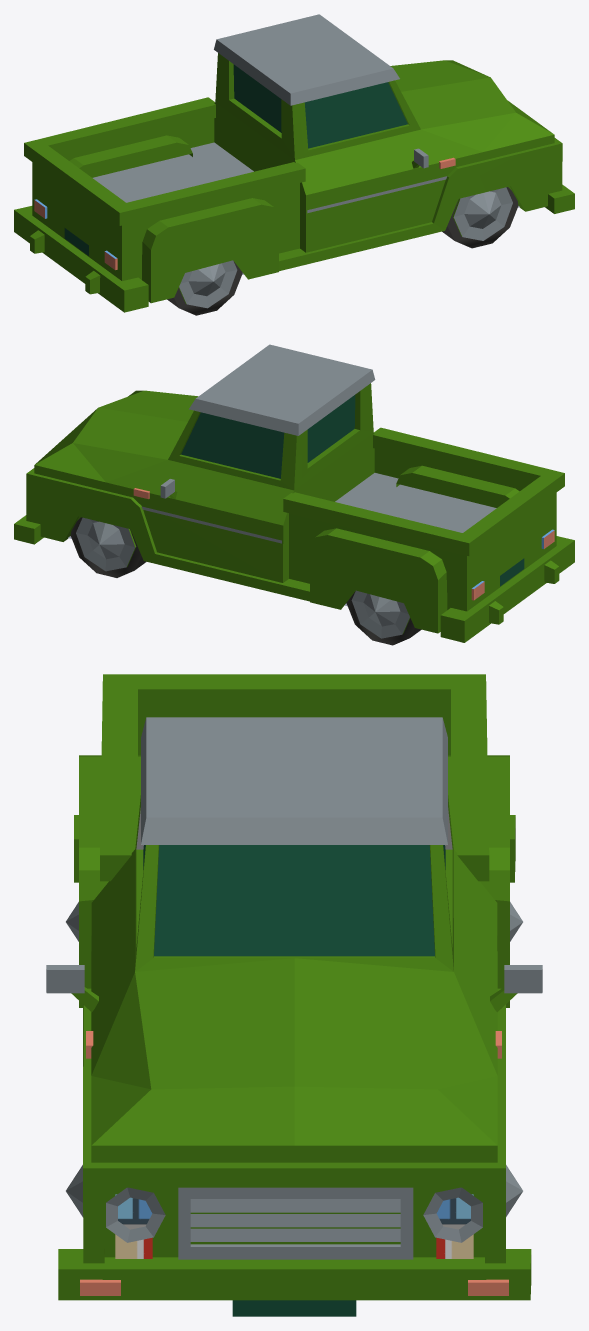
Rendered from transport_05.fbx.
3 views of the same model, one above another, from view 1: azimuth 30°, elevation 25°; view 2: azimuth 150°, elevation 25°; view 3: azimuth 270°, elevation 25° (orthographic). The views are drawn at different scales.
Visible parts, largest first — view 1: transport_05; view 2: transport_05; view 3: transport_05.
Part boxes in pixels (bbox=[...]): transport_05: bbox=[14, 14, 574, 315]; transport_05: bbox=[14, 344, 574, 645]; transport_05: bbox=[46, 674, 542, 1316].
Bounding box in the file's own units: 255 × 119 × 98.8.
